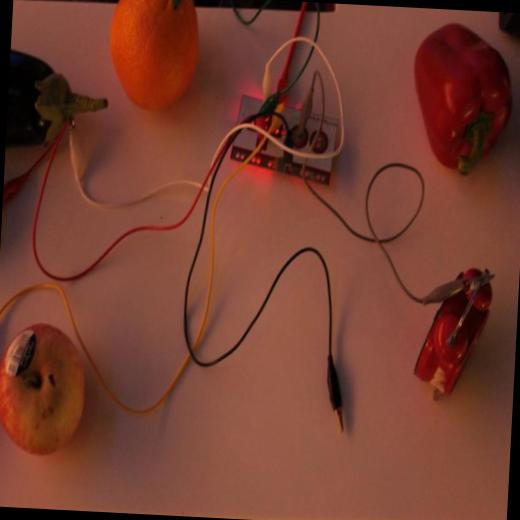Grape: (99, 0, 201, 110), (0, 325, 88, 447)
